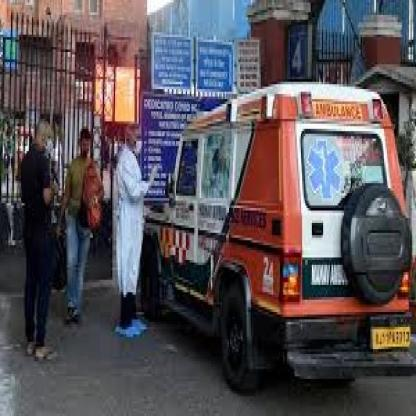priority: (143, 80, 416, 395)
